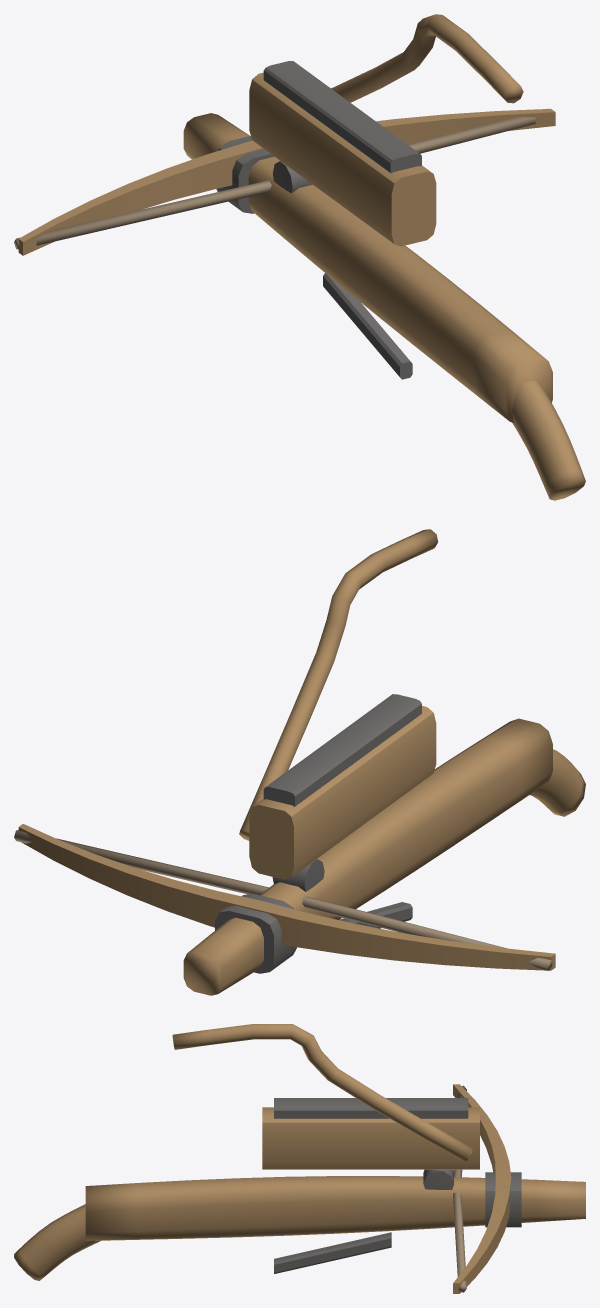
The model's file is repeating-hand-crossbow.glb.
3 renders of one model, top to bottom at view 1: azimuth 30°, elevation 25°; view 2: azimuth 150°, elevation 25°; view 3: azimuth 270°, elevation 25°, orthographic. The views are drawn at different scales.
Visible parts, largest first — view 1: repeating-hand-crossbow; view 2: repeating-hand-crossbow; view 3: repeating-hand-crossbow.
Part boxes in pixels (x1,y1,x2,y2): repeating-hand-crossbow: [14, 14, 585, 500]; repeating-hand-crossbow: [14, 529, 585, 995]; repeating-hand-crossbow: [14, 1024, 585, 1293].
Bounding box in the file's own units: 0.8003 × 0.508 × 0.9715.
